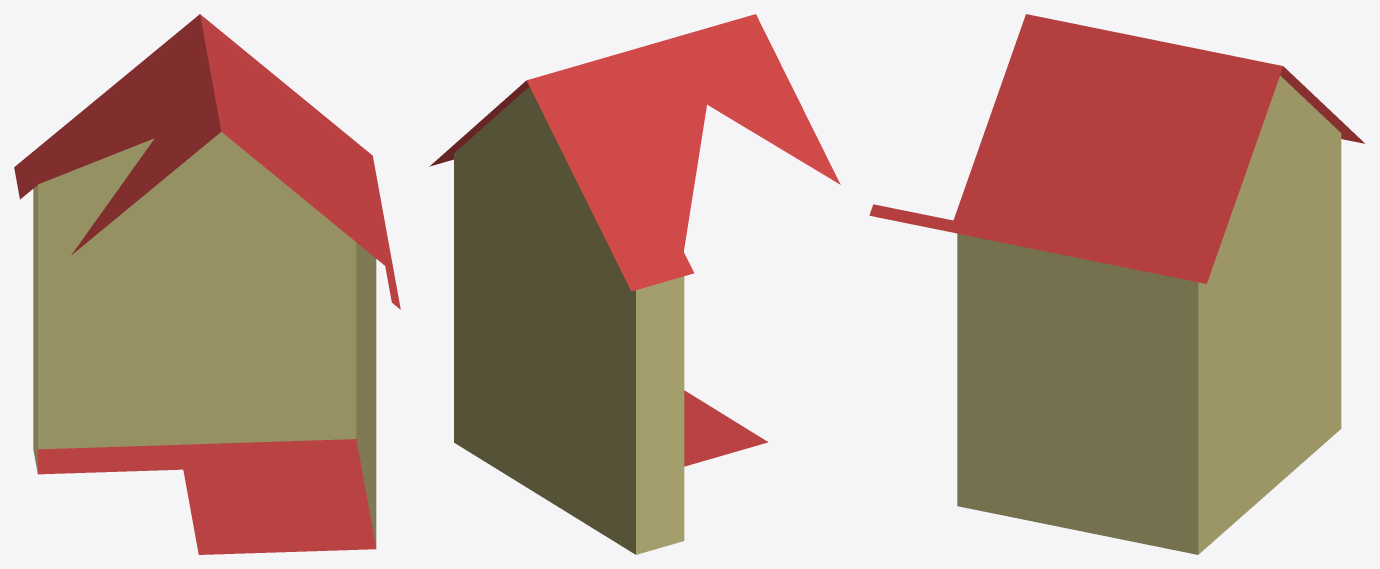
The picture shows the model from 3 angles, left to right: view 1: azimuth 30°, elevation 25°; view 2: azimuth 150°, elevation 25°; view 3: azimuth 270°, elevation 25°; orthographic projection. The views are drawn at different scales.
Size of the model in its own units: 11.53 by 13.56 by 13.01.
